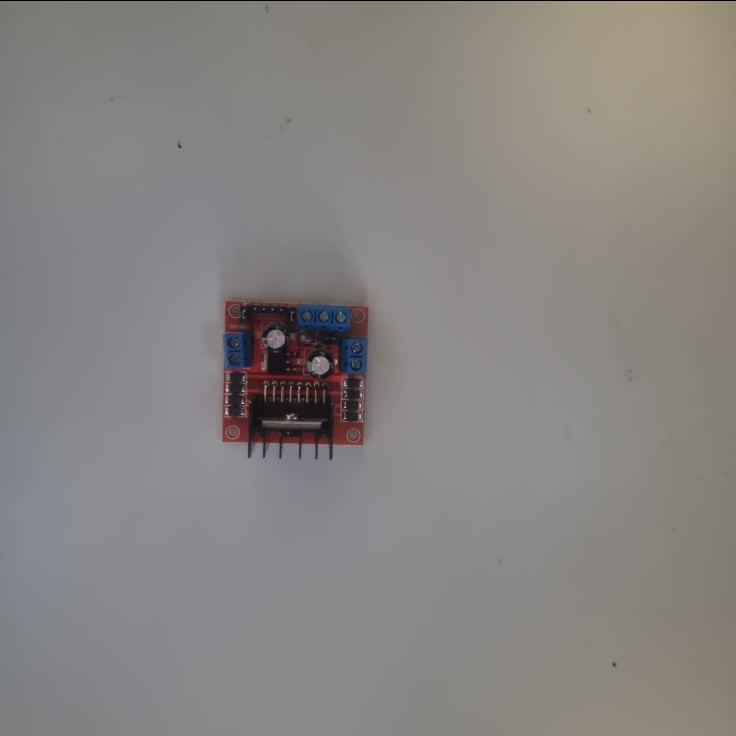MOTOR: (220, 299, 374, 458)
